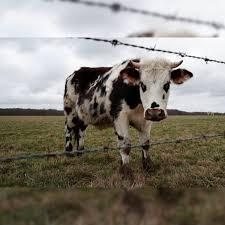cow: (64, 57, 193, 166)
